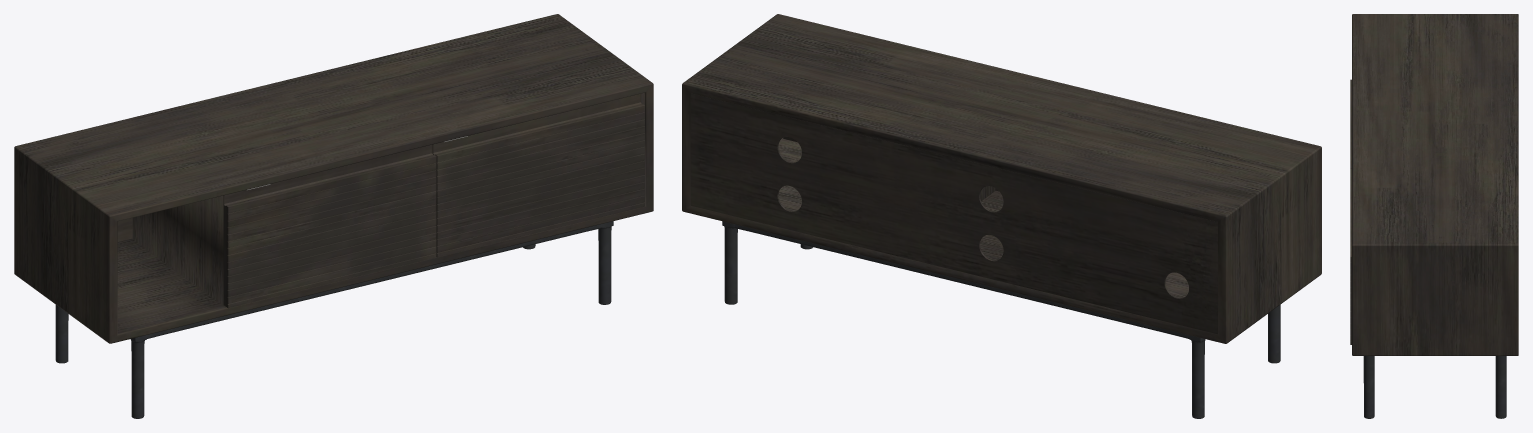
File: stevens_wood_media_cabinet.glb
3 renders of one model, left to right at view 1: azimuth 30°, elevation 25°; view 2: azimuth 150°, elevation 25°; view 3: azimuth 270°, elevation 25°, orthographic. The views are drawn at different scales.
Parts seen in each view (by area): view 1: RootNode; view 2: RootNode; view 3: RootNode.
Boxes of the visible parts, x1,y1,x2,y2 form: RootNode: [14, 14, 653, 418]; RootNode: [682, 14, 1321, 418]; RootNode: [1350, 14, 1518, 418].
Bounding box in the file's own units: 1.3 × 0.4946 × 0.4002.
1 material, 1 textured.
